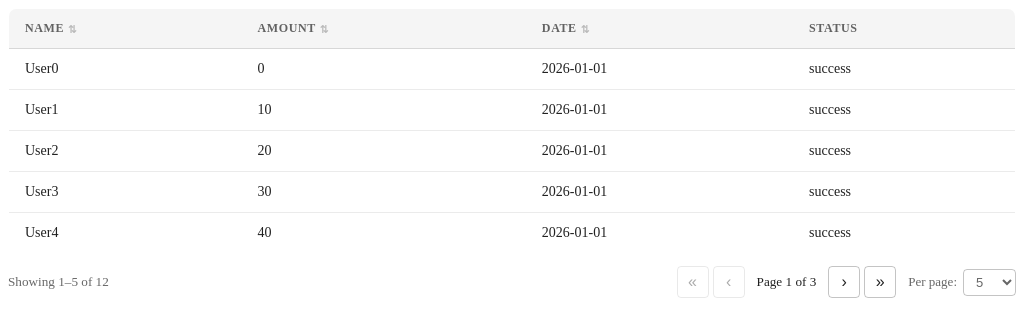
DataTable — sorting › resets to page 1 when sort changes
The image size is (1024, 315).
Navigate to page 2
Click the button named "next page": (844,282) 828,266 -> 860,298
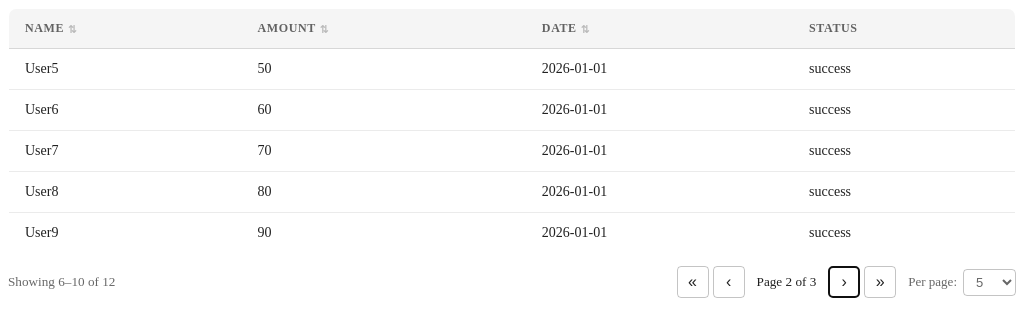
Expected: the text "Page 2 of 3" is shown, 756,274 -> 816,289
Click the column heading "Name ⇅": (125,28) 8,8 -> 242,48
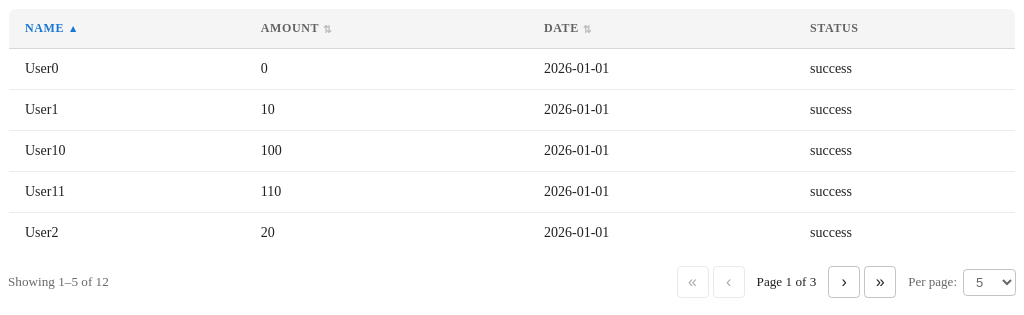
Expected: the text "Page 1 of 3" is shown, 756,274 -> 816,289
